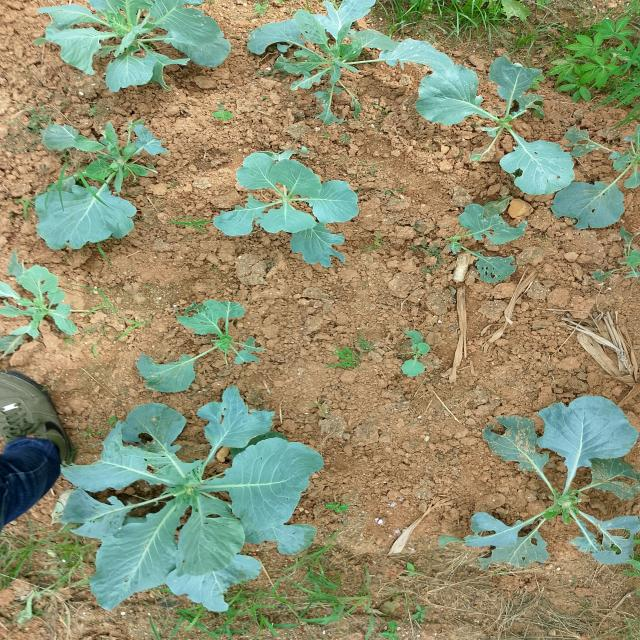Cabbage: (60, 408, 338, 605), (435, 397, 640, 594), (27, 105, 177, 251), (423, 53, 575, 193), (212, 142, 371, 266), (238, 2, 410, 106), (31, 0, 222, 89), (115, 295, 277, 387), (4, 246, 71, 354)
